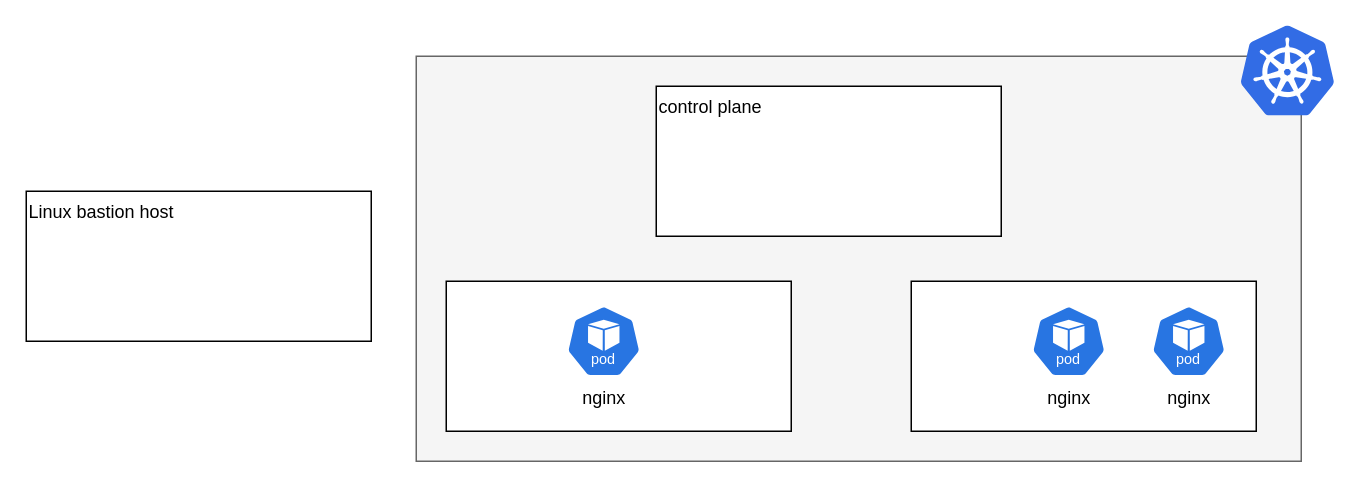
Some shapes in this 1361 by 488 pixel diagram are drawn without their labels. The box of each missing label's shape, as (x1, y1, x2, y2) in pixels:
Kubernetes Cluster: (1240, 26, 1334, 116)
worker node: (445, 280, 791, 431)
worker node 2: (910, 280, 1256, 431)
